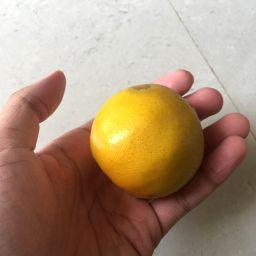Ripe: (90, 86, 205, 200)
